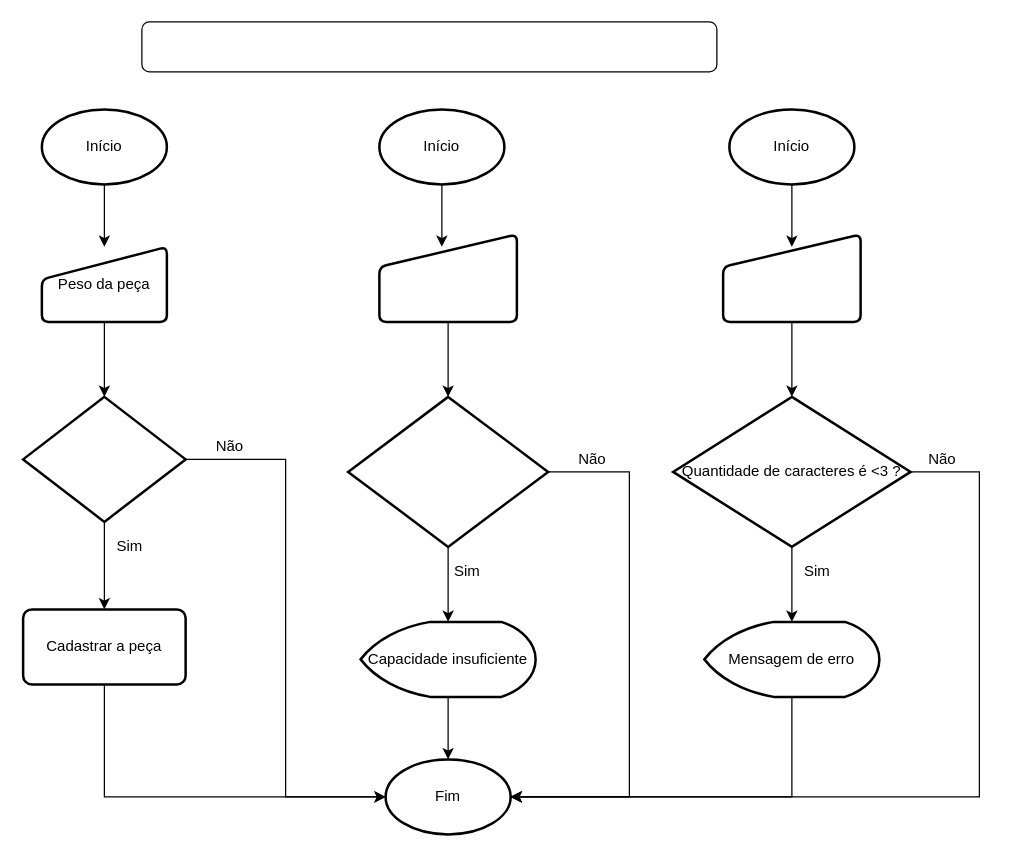
The diagram is 1011 pixels wide and 858 high, and some of its shapes have lost their labels. Each missing label, with the box of its shape:
CODIFICAÇÃO DE UM SISTEMA DE CADASTRO DE PEÇAS: (141, 21, 717, 72)
nome da peça: (721, 232, 861, 322)
Peso da peça é > 100g?: (21, 395, 186, 522)
Quantidade de peças: (378, 232, 518, 322)
Quantidade de peças é > 10?: (346, 395, 549, 548)
